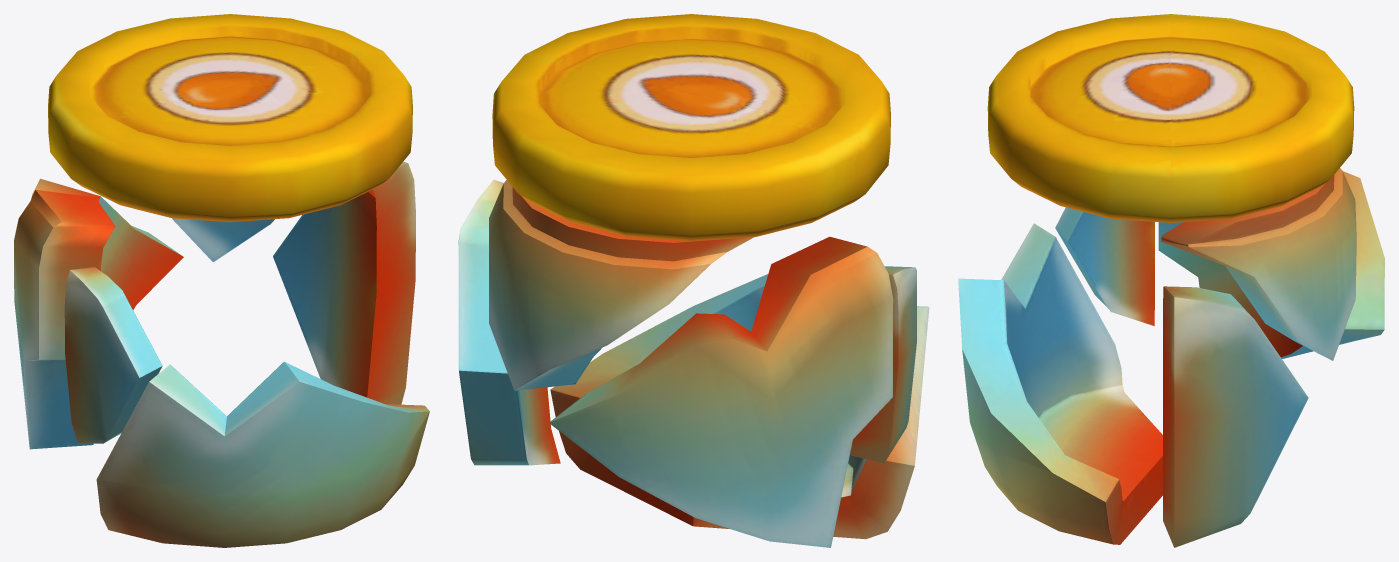
File: JamJar_Apricot_3DParticle_1x1-D2OcFBgY.glb
The picture shows the model from 3 angles, left to right: view 1: azimuth 30°, elevation 25°; view 2: azimuth 150°, elevation 25°; view 3: azimuth 270°, elevation 25°; orthographic projection. The views are drawn at different scales.
Bounding box in the file's own units: 0.9693 × 0.9748 × 0.9511.
1 material, 1 textured.
